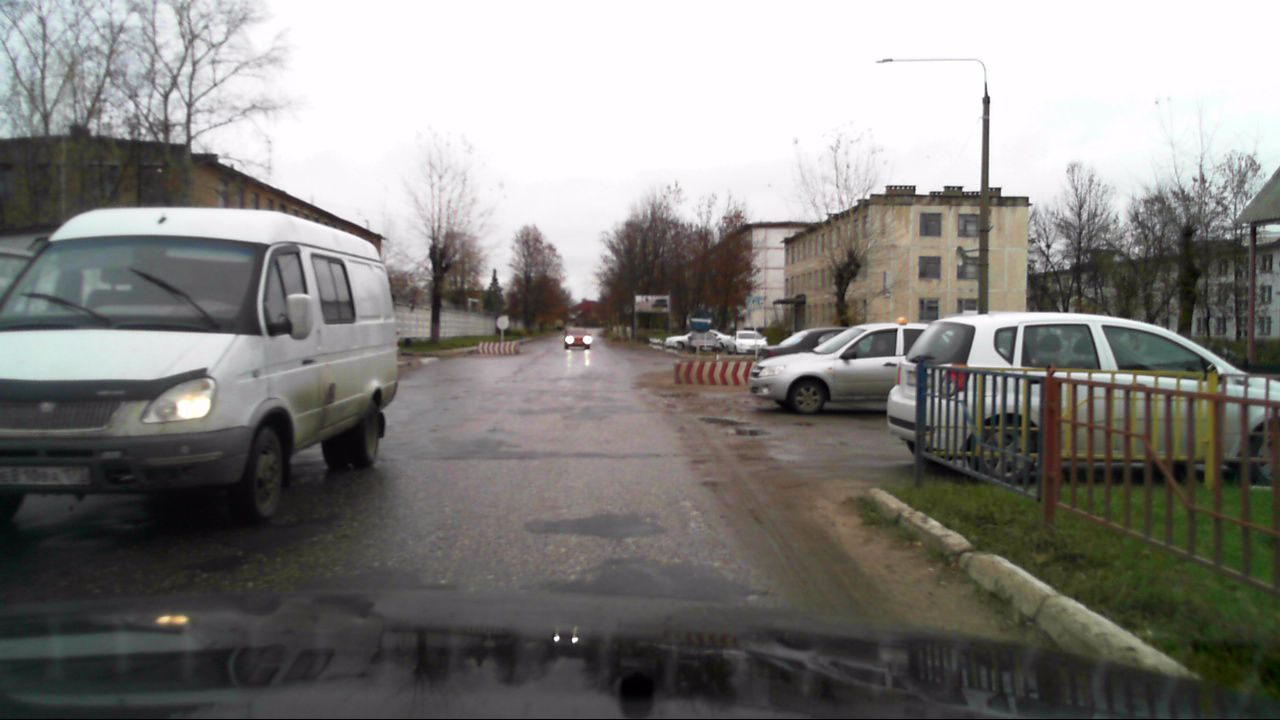Turn Right: (689, 310, 713, 332)
